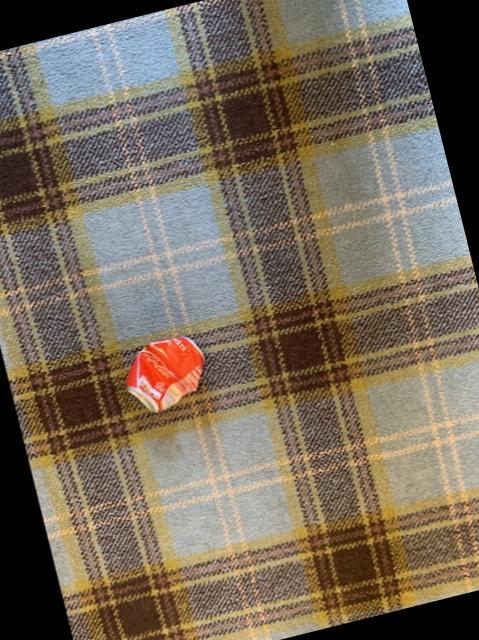metal: (124, 335, 201, 411)
